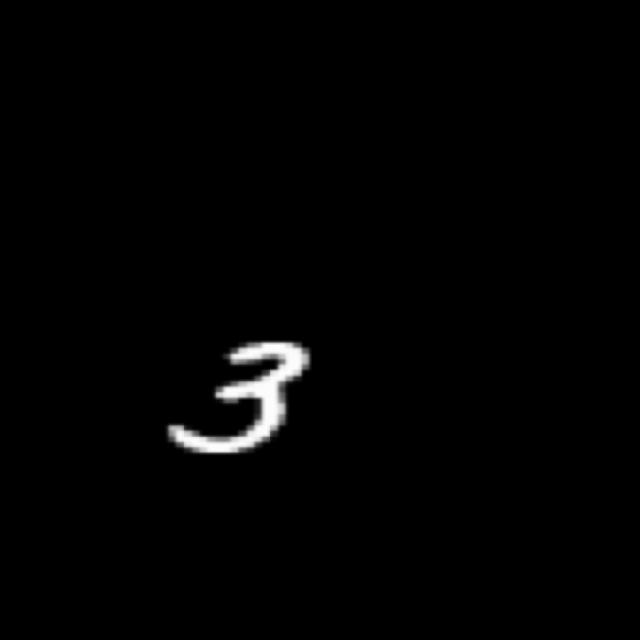three -3-: (157, 333, 322, 463)
